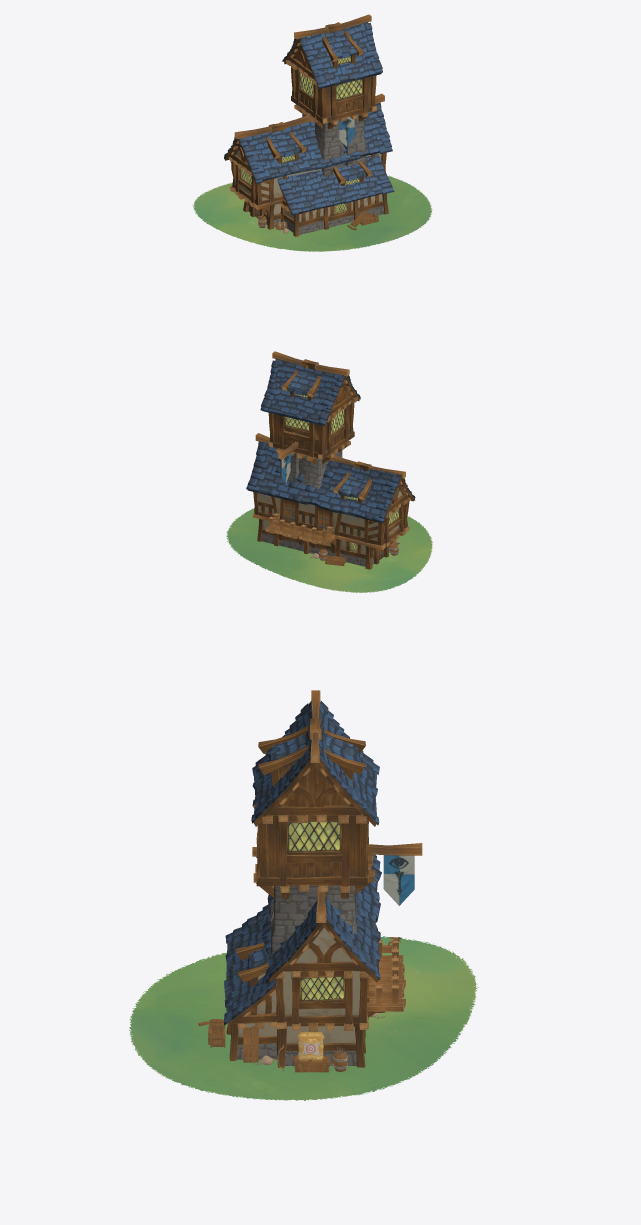
The model's file is sunstone-watchtower.glb.
The picture shows the model from 3 angles, top to bottom: view 1: azimuth 30°, elevation 25°; view 2: azimuth 150°, elevation 25°; view 3: azimuth 270°, elevation 25°; orthographic projection. The views are drawn at different scales.
Parts seen in each view (by area): view 1: Ground Plane002; view 2: Ground Plane002; view 3: Ground Plane002.
Boxes of the visible parts, x1,y1,x2,y2 form: Ground Plane002: (193, 14, 432, 251); Ground Plane002: (226, 351, 432, 592); Ground Plane002: (129, 690, 478, 1100).
Size of the model in its own units: 4290 by 1752 by 2989.
6 materials, 6 textured.
